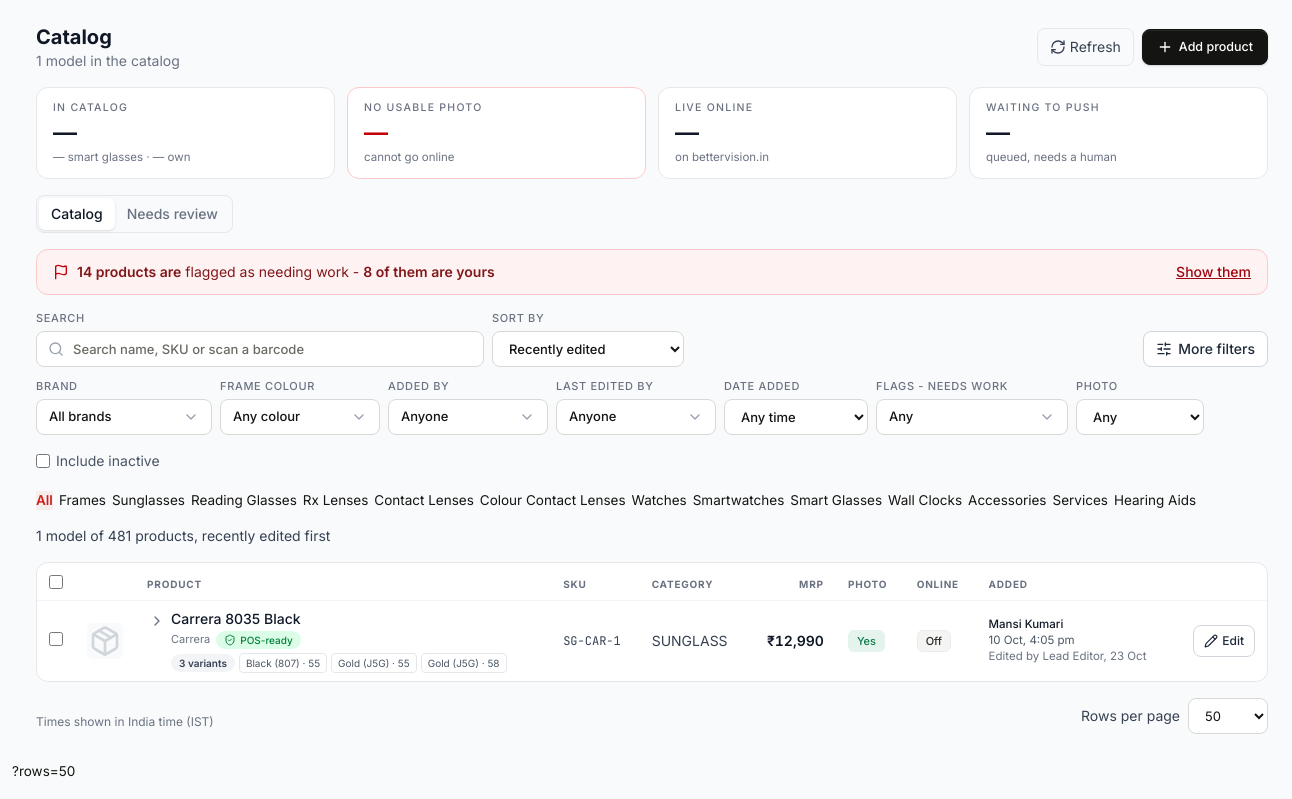
Test: G1 - one row per model (owner 2026-10-18) › shows each variant own editor and never borrows the model edit
Click the button with test id "family-toggle" at (157, 622), box [147,612,167,632]
(page scrolled)
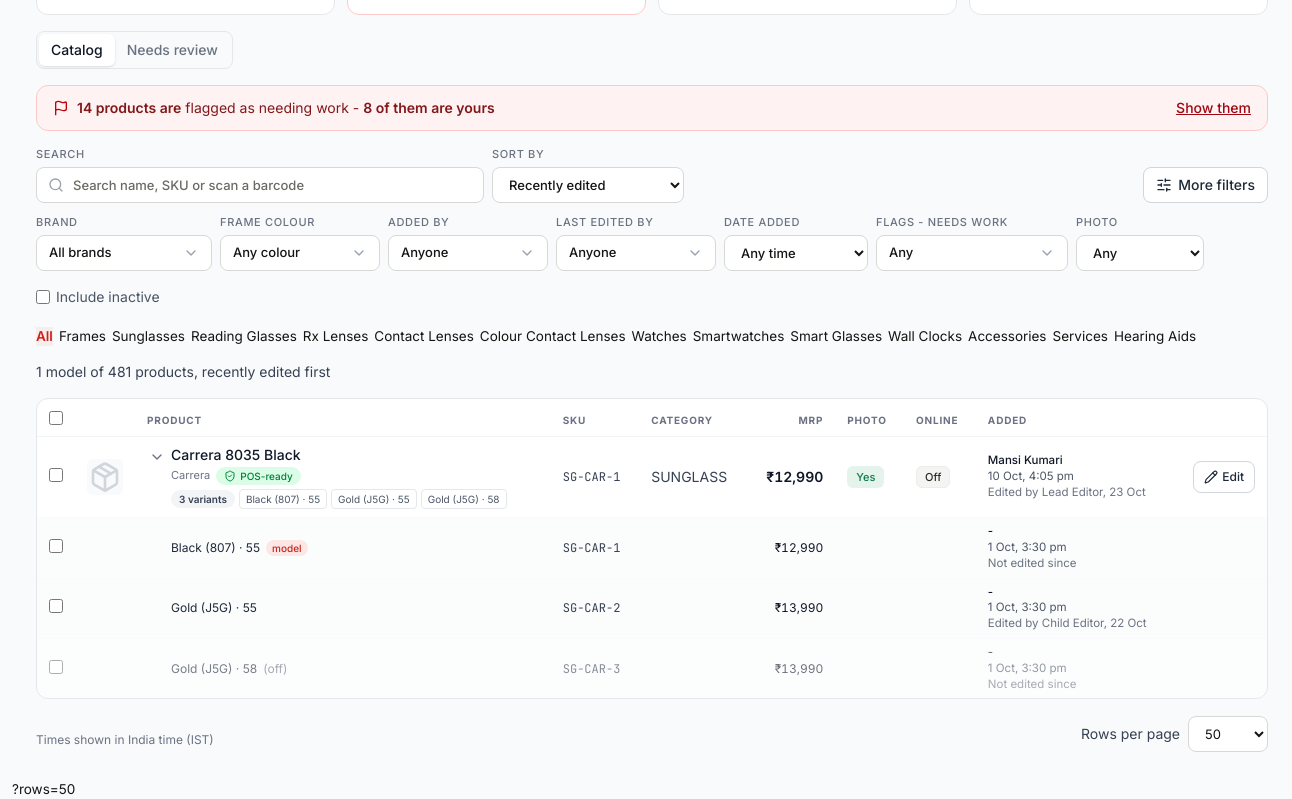
expect the row with test id "family-member-row" does not show "Lead Editor": met, box [37,578,1267,639]
expect the row with test id "family-member-row" shows "Edited by Child Editor": met, box [988,616,1147,630]
expect the row with test id "family-member-row" shows "Not edited since": met, box [988,677,1077,691]
